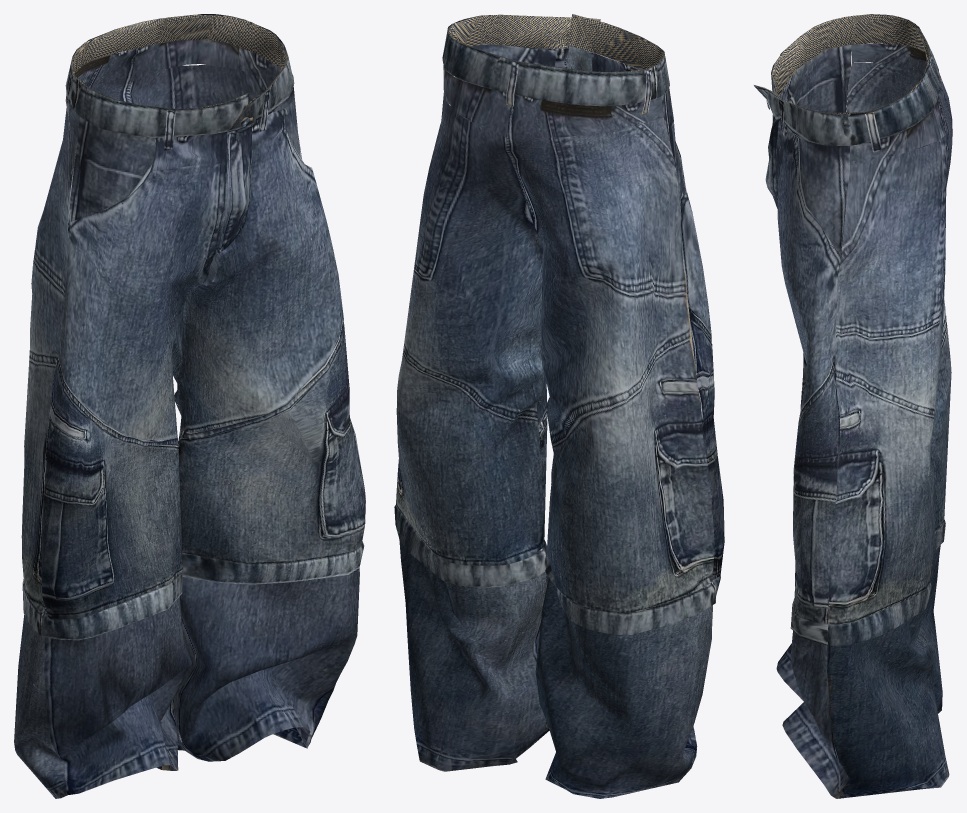
The model's file is jeans.glb.
The picture shows the model from 3 angles, left to right: view 1: azimuth 30°, elevation 25°; view 2: azimuth 150°, elevation 25°; view 3: azimuth 270°, elevation 25°; orthographic projection. The views are drawn at different scales.
Parts seen in each view (by area): view 1: Object_4, Object_15; view 2: Object_15, Object_4; view 3: Object_15, Object_4.
Boxes of the visible parts, <box> form: Object_4: <box>22,14,365,794</box>; Object_15: <box>14,39,361,798</box>; Object_15: <box>396,26,714,798</box>; Object_4: <box>394,14,724,756</box>; Object_15: <box>804,43,952,798</box>; Object_4: <box>754,14,947,798</box>.
Size of the model in its own units: 0.7806 by 1.68 by 0.4396.
2 materials, 2 textured.
